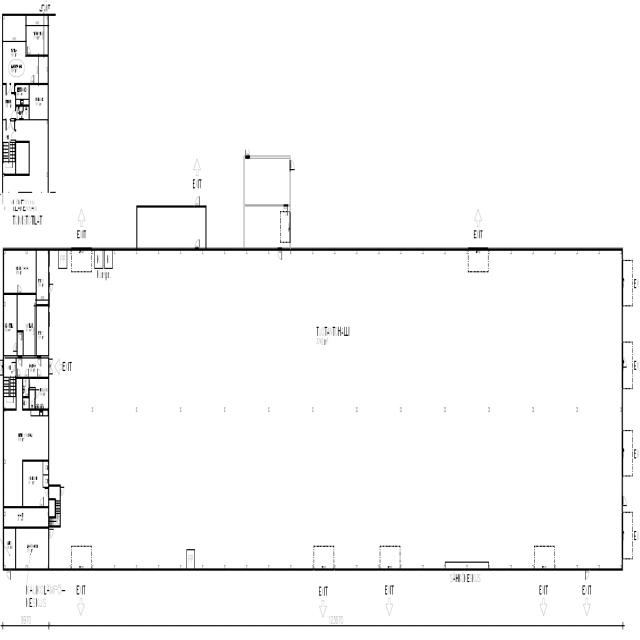door: (283, 203, 288, 216), (585, 568, 590, 580), (48, 529, 54, 539), (48, 283, 54, 293), (10, 119, 15, 131), (195, 195, 199, 208), (11, 121, 16, 131), (6, 568, 10, 580), (246, 146, 250, 158), (278, 248, 282, 260), (195, 239, 199, 251), (6, 82, 10, 94), (10, 82, 14, 94), (6, 119, 10, 131), (11, 131, 16, 140), (18, 356, 22, 367), (37, 356, 41, 367), (18, 284, 22, 295), (18, 330, 22, 341), (38, 368, 42, 379), (40, 497, 44, 508), (30, 74, 34, 85), (17, 369, 21, 379), (24, 369, 28, 379), (290, 160, 294, 170), (34, 390, 39, 398), (27, 46, 31, 56), (622, 496, 626, 505), (45, 488, 49, 497), (12, 362, 16, 371), (60, 487, 64, 496), (12, 85, 16, 94), (48, 366, 52, 374), (13, 343, 17, 351), (12, 110, 16, 118), (0, 368, 4, 375), (0, 360, 4, 367), (48, 359, 52, 366), (20, 111, 24, 118), (26, 389, 28, 398)
